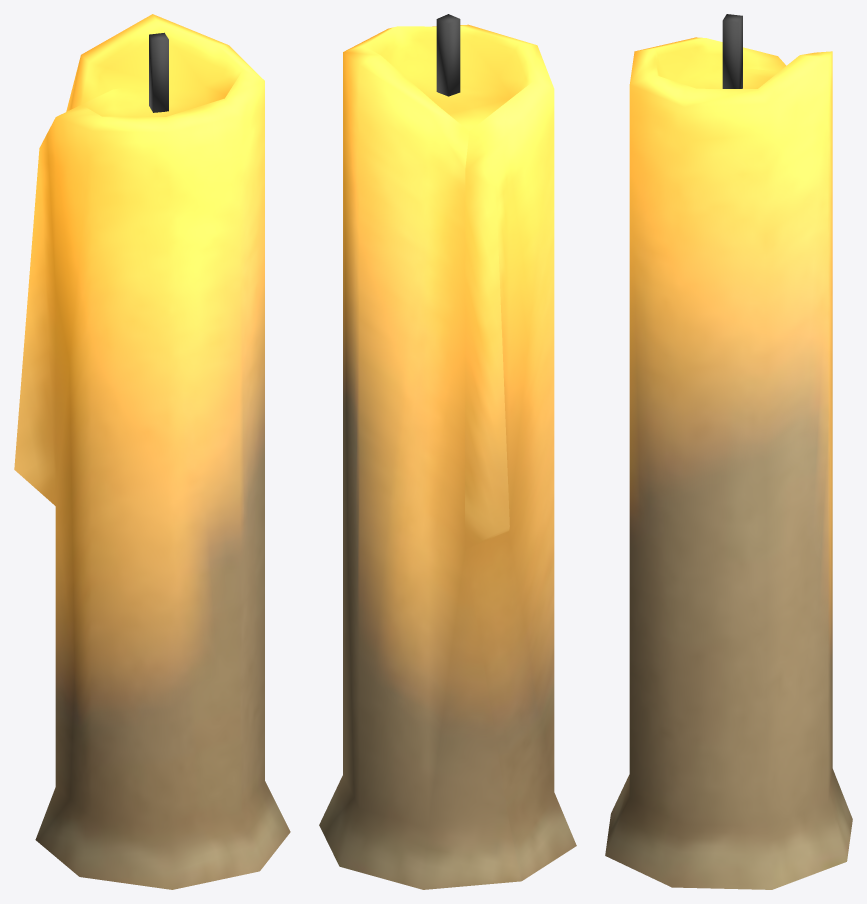
Rendered from Candle_L.fbx.
3 renders of one model, left to right at view 1: azimuth 30°, elevation 25°; view 2: azimuth 150°, elevation 25°; view 3: azimuth 270°, elevation 25°, orthographic. The views are drawn at different scales.
Parts seen in each view (by area): view 1: Candle_L; view 2: Candle_L; view 3: Candle_L.
Part boxes in pixels (x1,y1,x2,y2): Candle_L: [14, 14, 290, 889]; Candle_L: [319, 14, 576, 889]; Candle_L: [605, 14, 852, 889].
Size of the model in its own units: 28.64 by 104 by 28.64.
